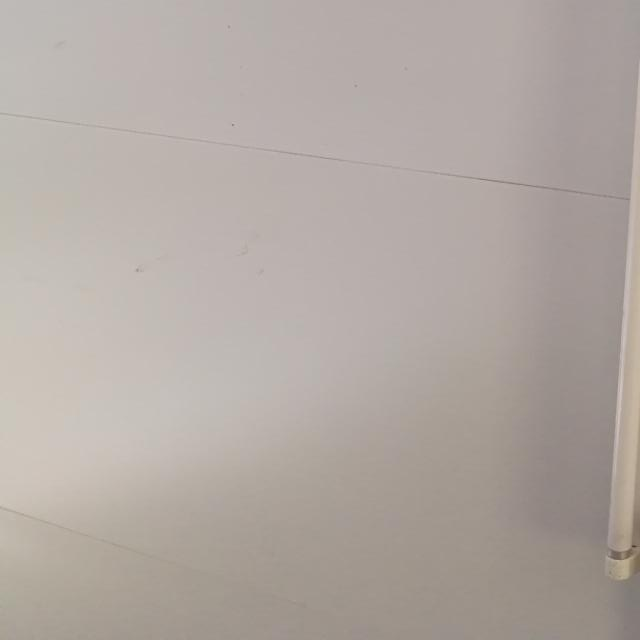fluorescent tube: (572, 0, 640, 628)
